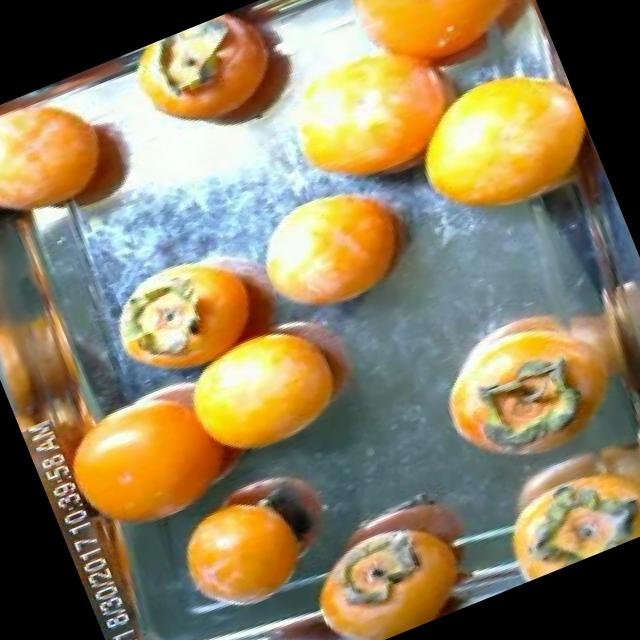Fruit: (374, 38, 612, 260), (250, 6, 474, 220), (222, 148, 448, 348), (0, 62, 170, 263), (152, 470, 337, 632)
